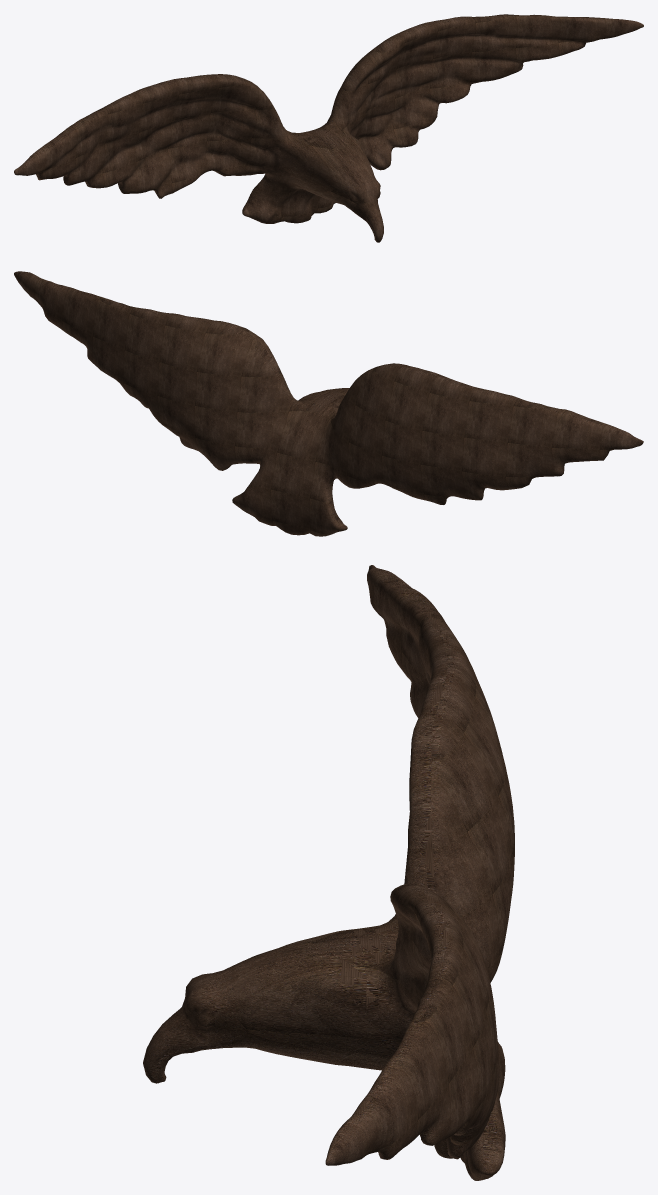
The model's file is ave.obj.
3 renders of one model, top to bottom at view 1: azimuth 30°, elevation 25°; view 2: azimuth 150°, elevation 25°; view 3: azimuth 270°, elevation 25°, orthographic. The views are drawn at different scales.
Parts seen in each view (by area): view 1: g_ZBrush_defualt_group_ZBrush_defualt_group; view 2: g_ZBrush_defualt_group_ZBrush_defualt_group; view 3: g_ZBrush_defualt_group_ZBrush_defualt_group.
Boxes of the visible parts, x1,y1,x2,y2 form: g_ZBrush_defualt_group_ZBrush_defualt_group: (14, 14, 643, 242); g_ZBrush_defualt_group_ZBrush_defualt_group: (14, 271, 643, 536); g_ZBrush_defualt_group_ZBrush_defualt_group: (143, 565, 514, 1180).
Size of the model in its own units: 84.22 by 23.33 by 21.92.
Materials: 1 (1 with a texture image).
